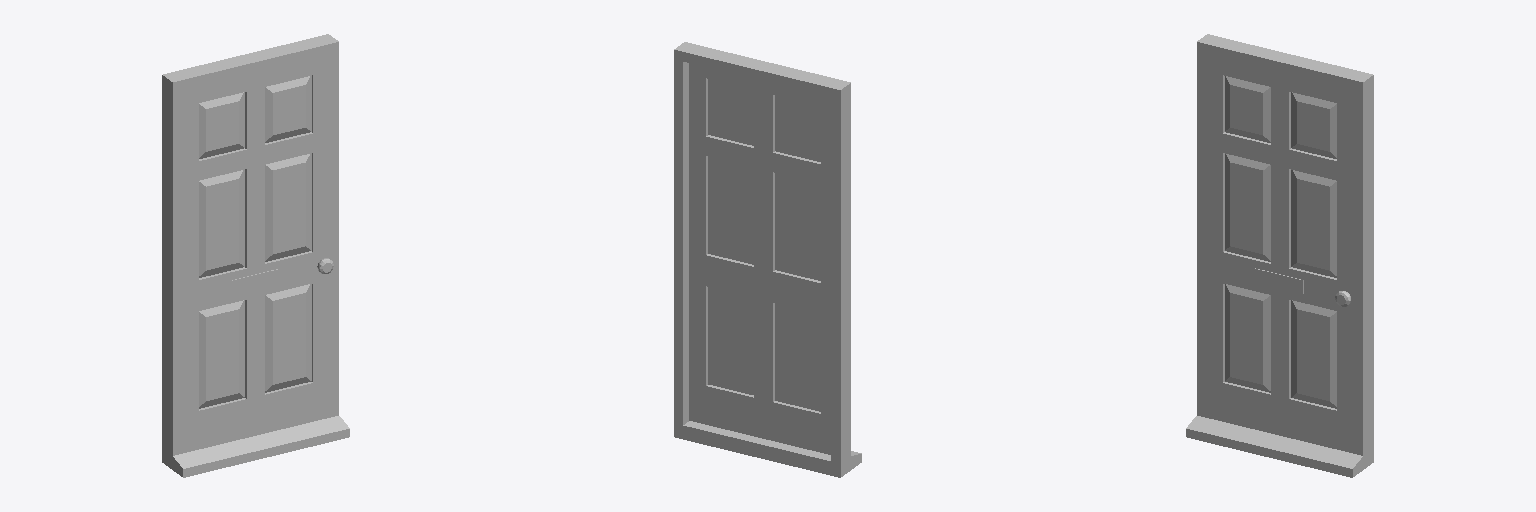
The model's file is door2.obj.
3 views of the same model, side by side, from view 1: azimuth 30°, elevation 25°; view 2: azimuth 150°, elevation 25°; view 3: azimuth 330°, elevation 25° (orthographic).
Parts seen in each view (by area): view 1: door_dxf_001; view 2: door_dxf_001; view 3: door_dxf_001.
Boxes of the visible parts, box(x1,y1,x2,y2) form: door_dxf_001: box(162, 34, 349, 477); door_dxf_001: box(674, 42, 861, 477); door_dxf_001: box(1186, 34, 1373, 477).
Bounding box in the file's own units: 35.42 × 78.74 × 7.87.